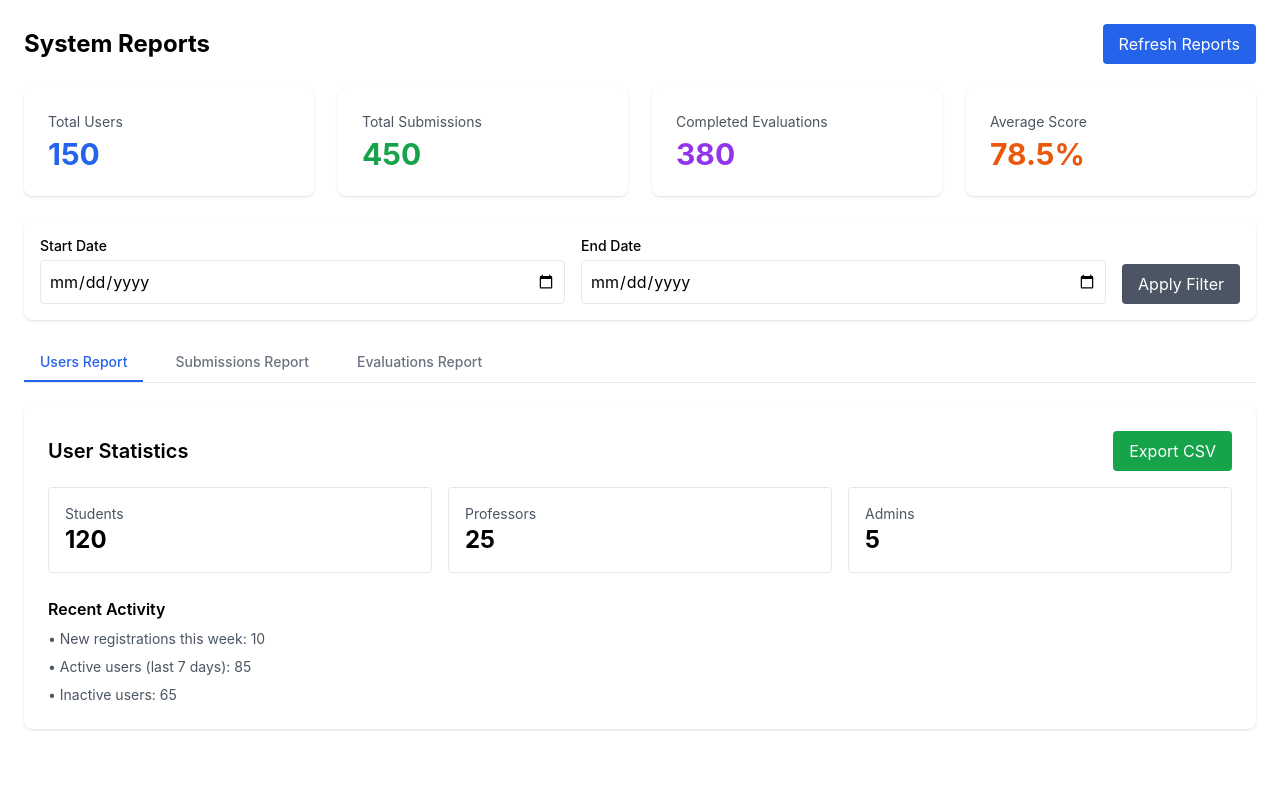
Scenario: AdminReports Tests › switches to submissions report when tab is clicked
Expected: the heading "System Reports" is shown, [24, 28, 210, 60]
Note: Click on Submissions Report tab
Click the button "Submissions Report".
click(242, 363)  # box [160, 344, 325, 382]
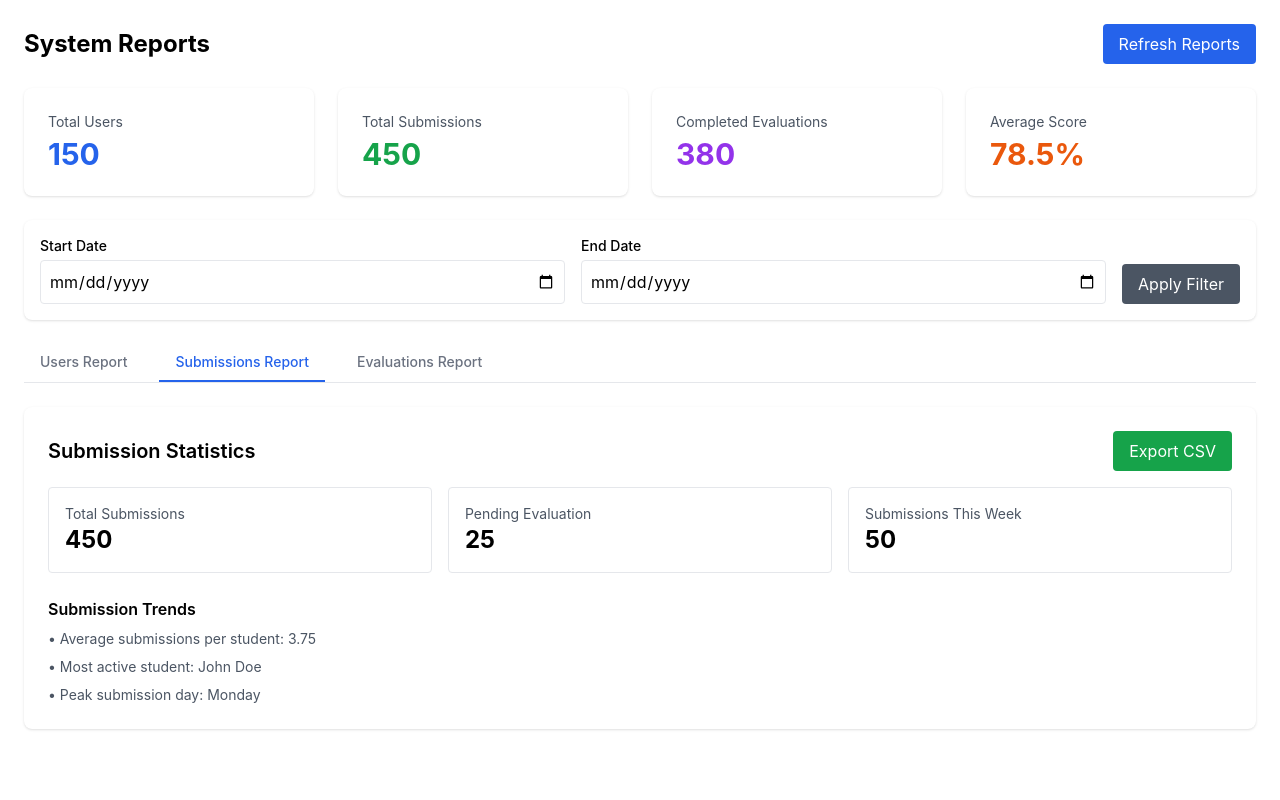
Expected: the heading "Submission Statistics" is shown, [48, 437, 256, 465]
Expected: the text "Pending Evaluation" is shown, [465, 505, 591, 522]
Expected: the text "Submissions This Week" is shown, [865, 505, 1022, 522]
